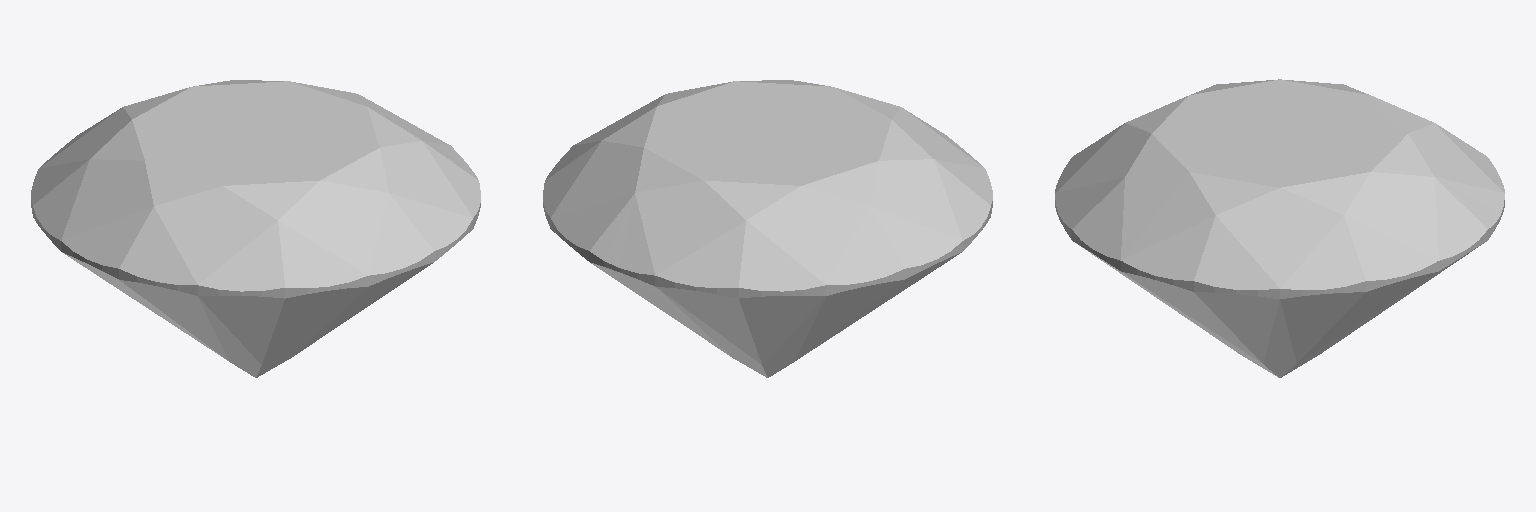
The model's file is 2point5gem.obj.
3 views of the same model, side by side, from view 1: azimuth 30°, elevation 25°; view 2: azimuth 150°, elevation 25°; view 3: azimuth 270°, elevation 25° (orthographic).
Size of the model in its own units: 2.5 by 1.5 by 2.5.